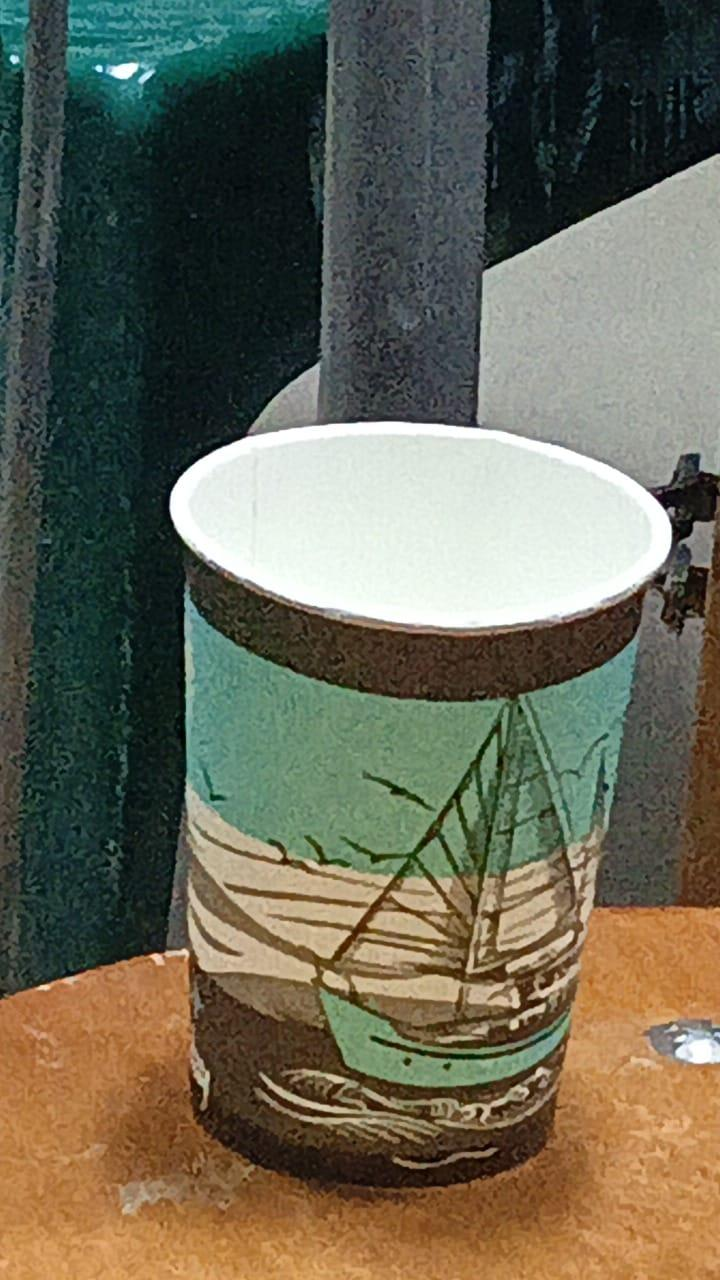cup: (171, 422, 670, 1185)
